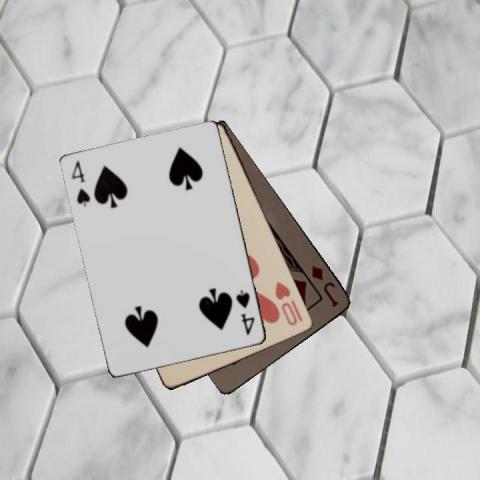10h: (272, 279, 305, 327)
4s: (233, 287, 257, 337), (69, 158, 92, 209)
Jd: (308, 262, 340, 309)
